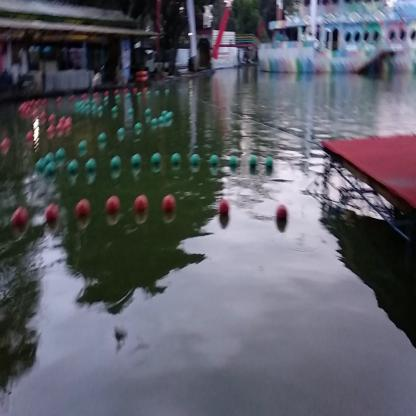green_buoy: (86, 160, 98, 178), (68, 162, 81, 178), (171, 153, 182, 170), (110, 159, 121, 175), (229, 156, 240, 171), (132, 155, 142, 170), (36, 157, 46, 172), (78, 140, 87, 156), (57, 149, 66, 165), (153, 154, 162, 170), (191, 155, 200, 171), (210, 154, 219, 169), (248, 158, 257, 173), (48, 164, 57, 179), (266, 156, 274, 172), (46, 154, 54, 168), (117, 129, 126, 141), (101, 133, 107, 149), (135, 120, 142, 133)
red_buoy: (274, 204, 288, 230), (11, 208, 26, 226), (106, 195, 120, 214), (134, 196, 148, 215), (162, 196, 176, 215), (76, 199, 89, 216), (218, 197, 228, 218), (46, 205, 57, 219)
